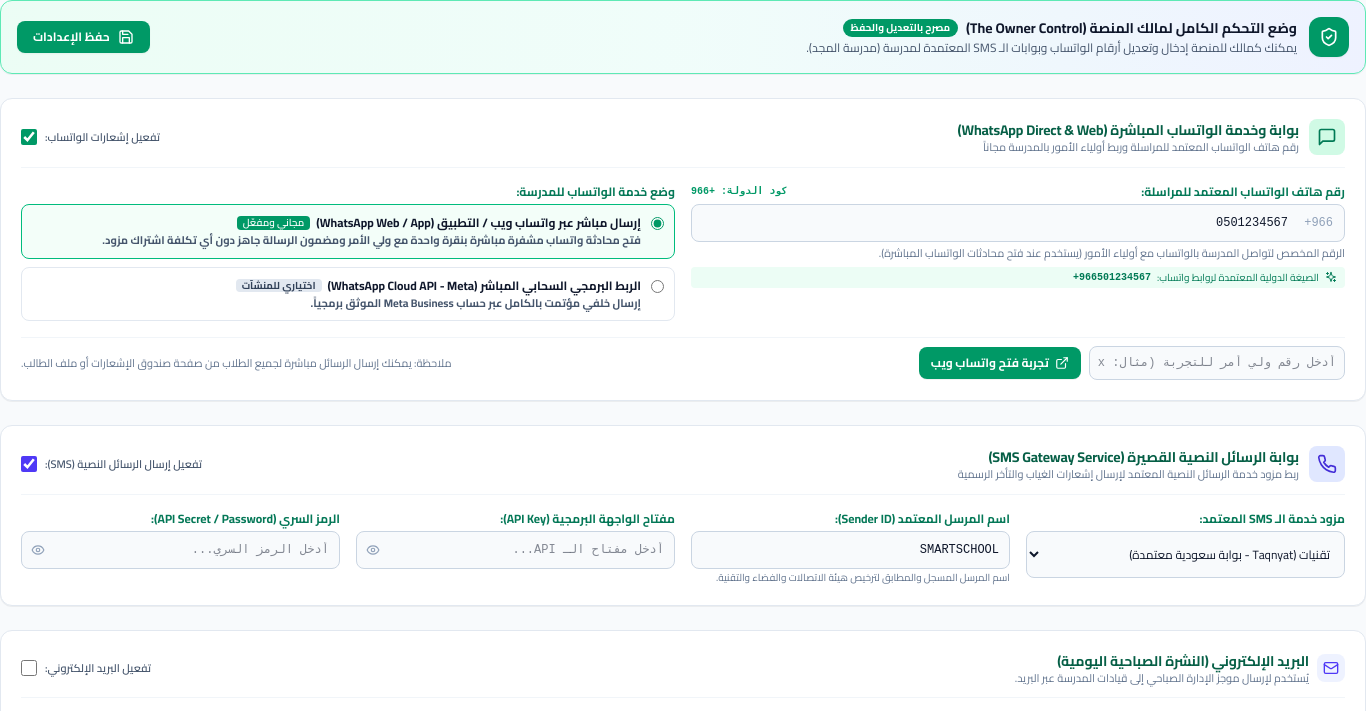
Test: SchoolMessagingGatewaysTab › saves the current form and shows the success message
Click the button "حفظ الإعدادات". click: coordinates (83, 37)
box: [17,21,150,53]
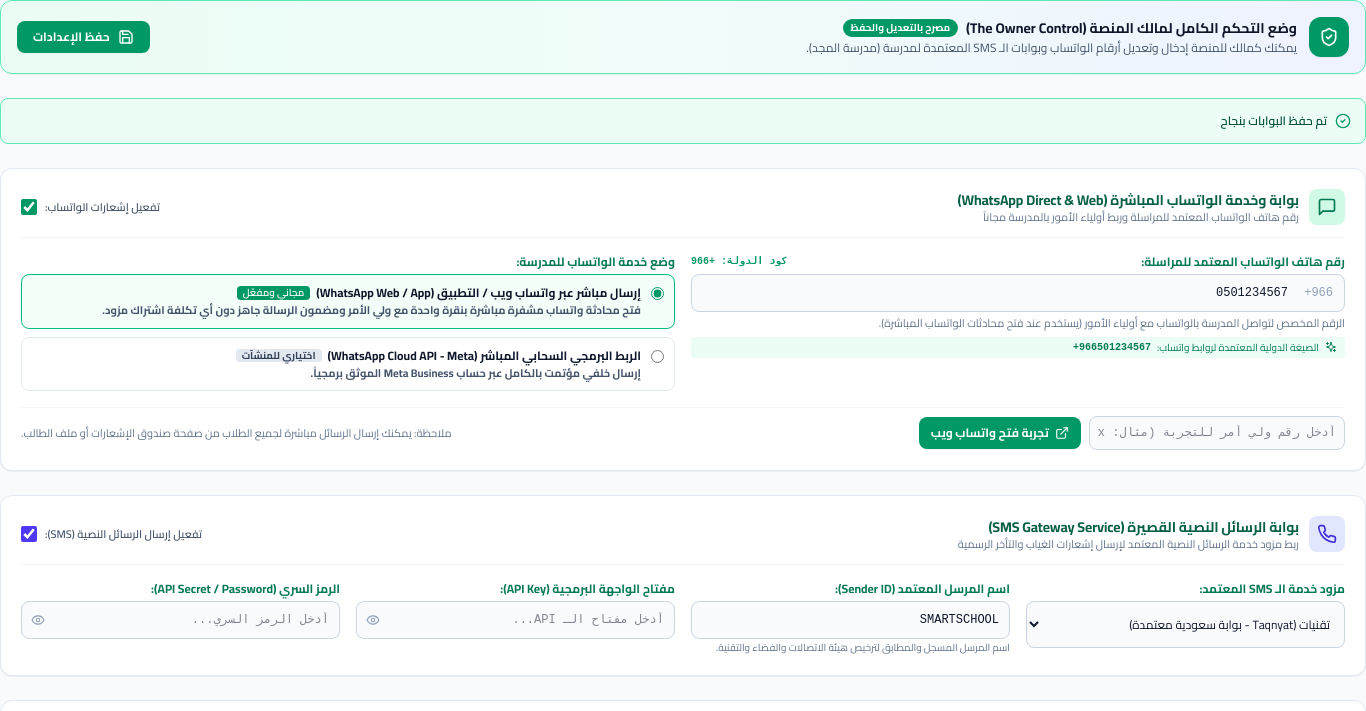
Check: the text "تم حفظ البوابات بنجاح" is shown, box [1221,113,1327,129]
